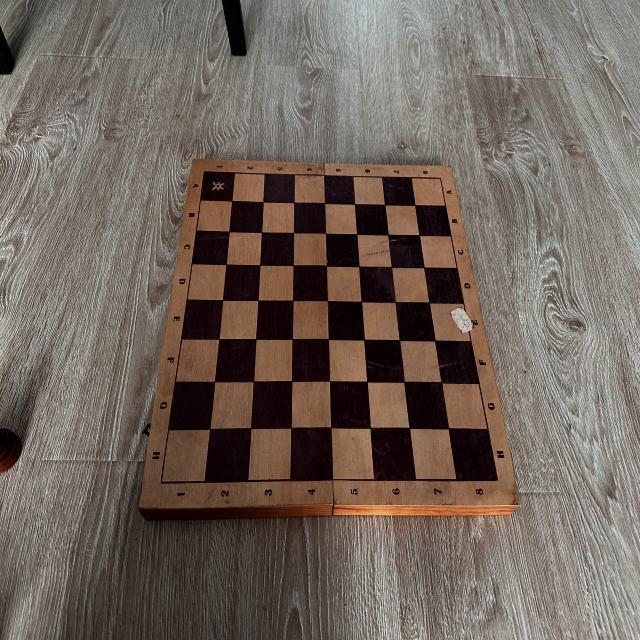chess-table-corners: (494, 474, 502, 487), (158, 477, 166, 487), (436, 174, 444, 182), (202, 168, 207, 175)
